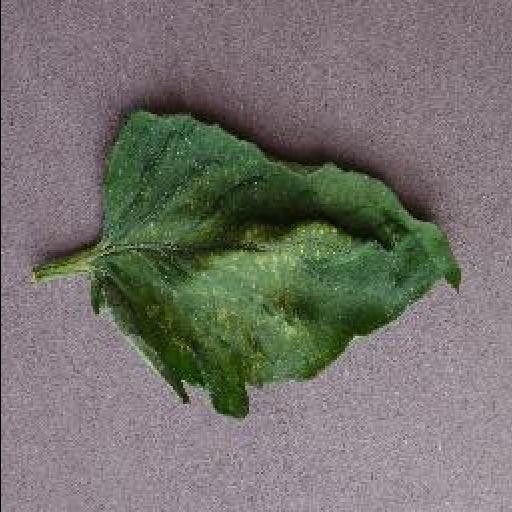disease_tomato: (90, 108, 462, 422)
